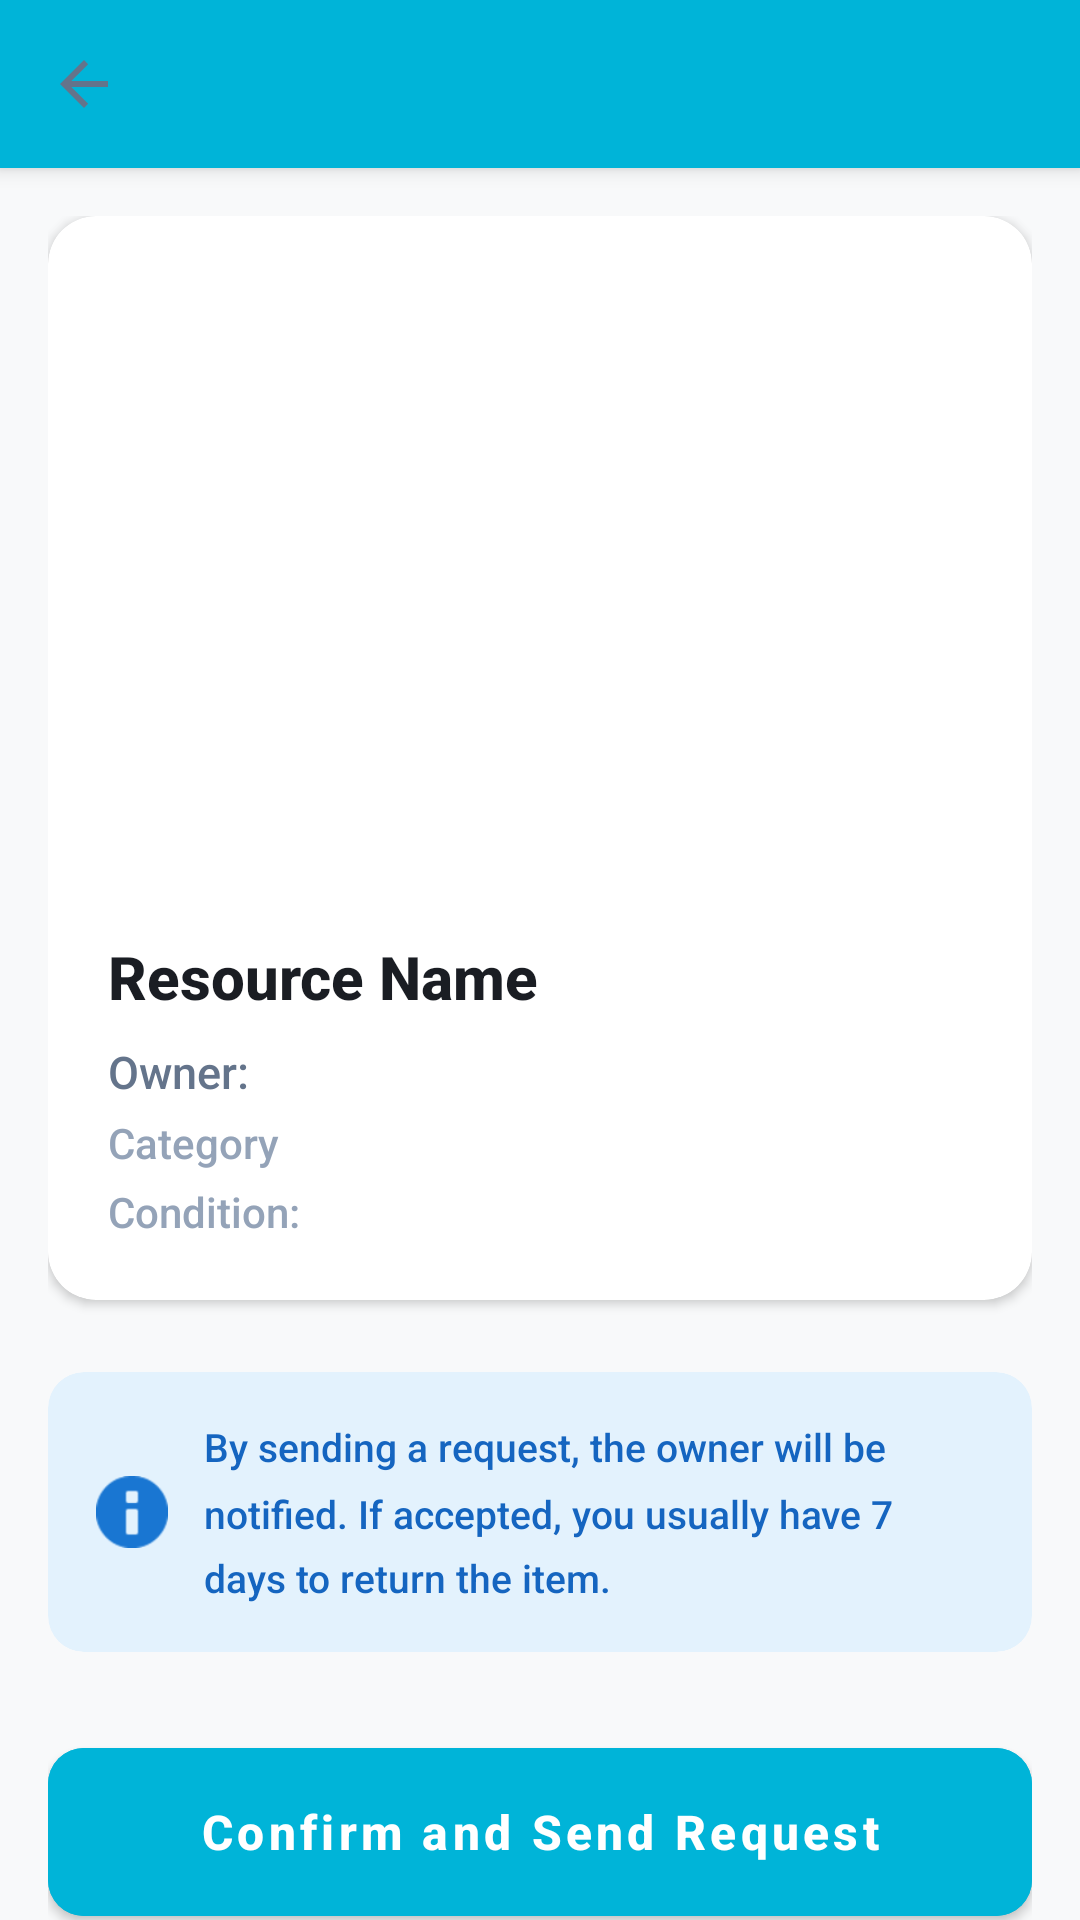

Screen size 1080w x 1920h. Icon name, then its center in pixels as [x,y]:
info: [132,1512]
